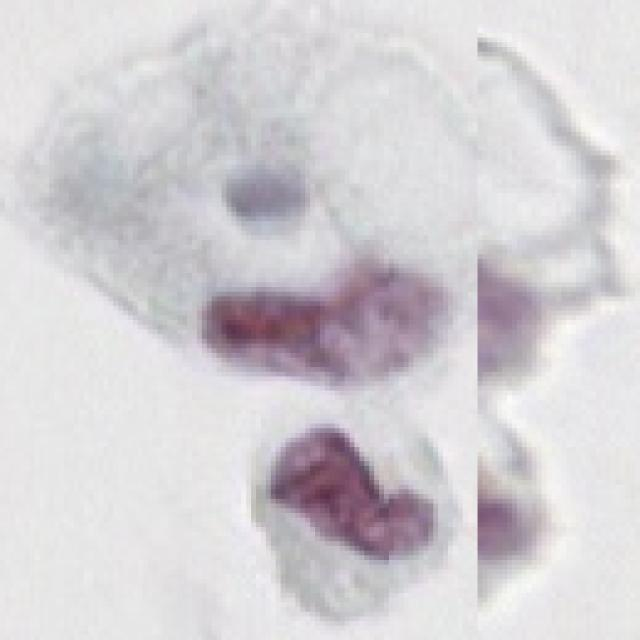cytoplasm: (209, 354, 499, 640)
nucleus: (260, 417, 445, 585)
